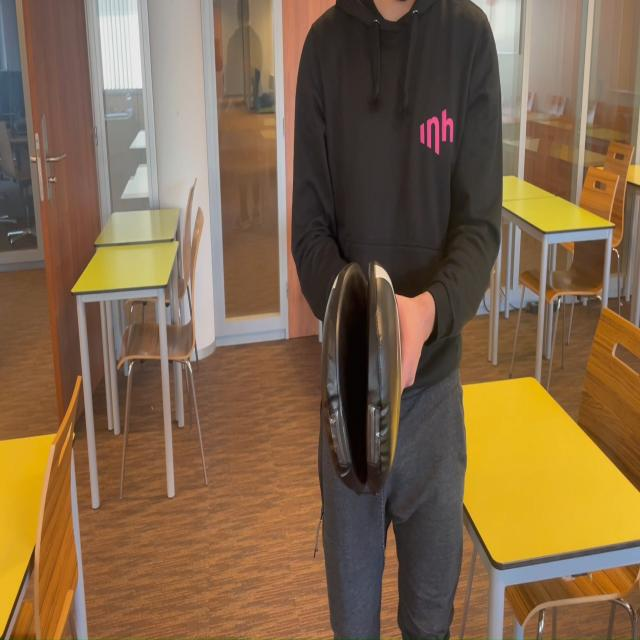paddle: (328, 265, 397, 485)
